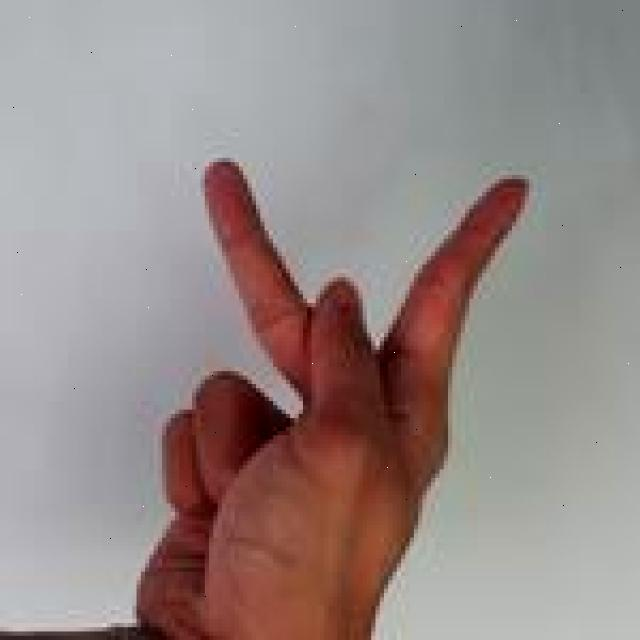K: (130, 152, 542, 630)
